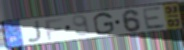6: (121, 9, 144, 33)
9: (72, 14, 92, 39)
E: (141, 6, 168, 31)
F: (44, 17, 65, 42)
G: (92, 12, 116, 36)
J: (26, 20, 43, 44)
